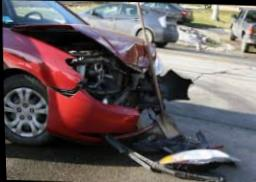Bonnet: (14, 24, 154, 69)
Bumper: (45, 74, 191, 145)
Light: (66, 59, 121, 93)
